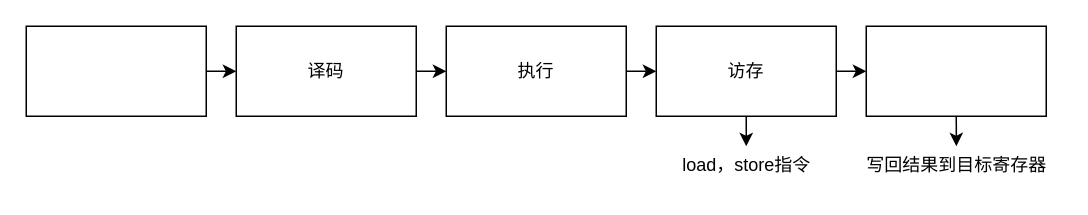
Some shapes in this 1088 by 215 pixel diagram are drawn without their labels. The centre of each missing label's shape, as x and y in pixels:
取指: the point at 115,70
回写: the point at 955,70
